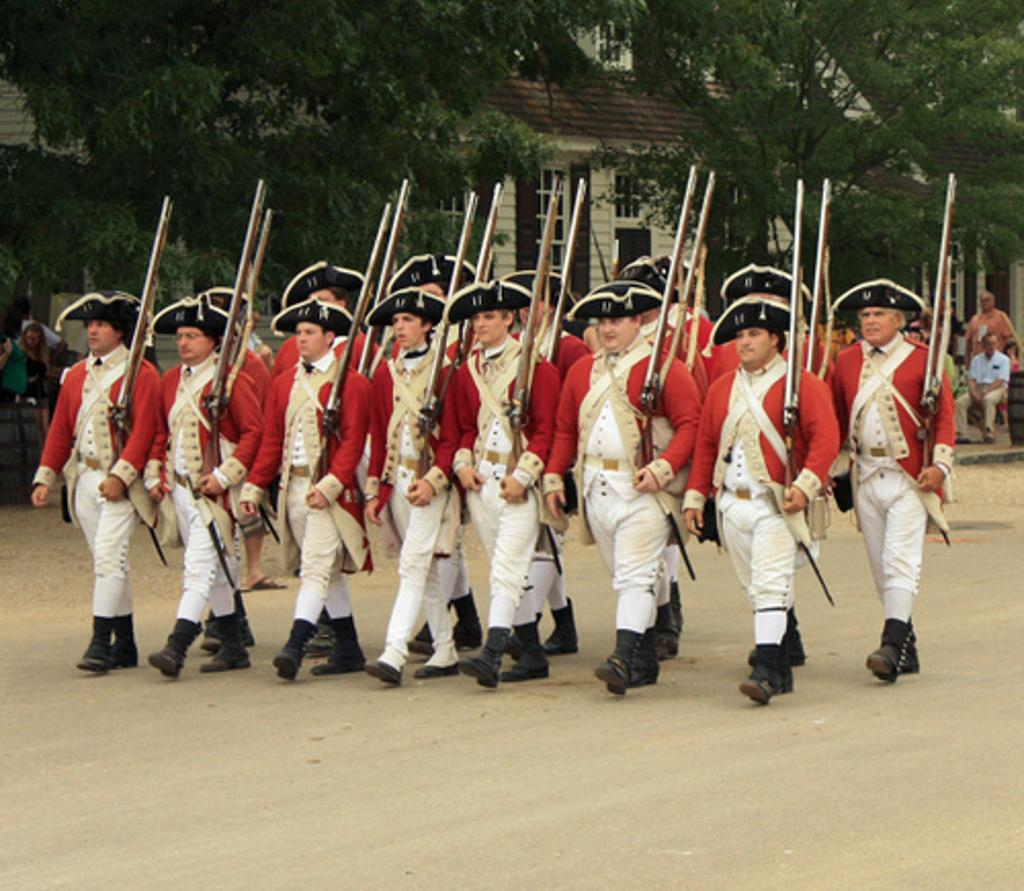face: (598, 309, 637, 348), (737, 322, 773, 362), (861, 304, 896, 342), (177, 320, 209, 360), (410, 289, 443, 327), (519, 287, 552, 324), (473, 305, 505, 342), (296, 320, 326, 355), (394, 313, 424, 347), (88, 316, 117, 350), (309, 292, 335, 327), (986, 339, 997, 355), (27, 334, 40, 347), (982, 296, 992, 309)
